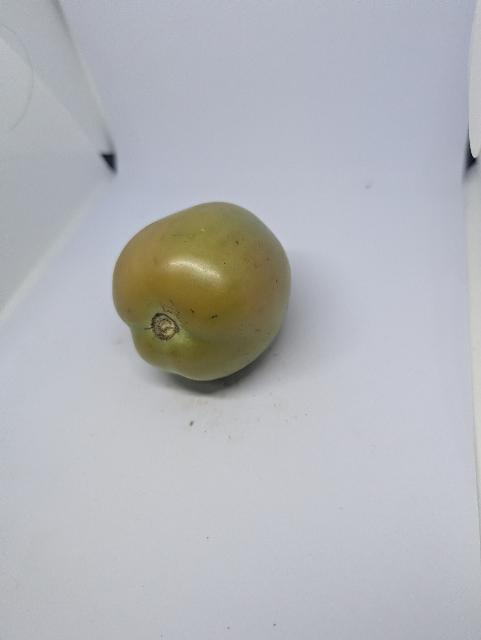breaker: (105, 195, 301, 408)
